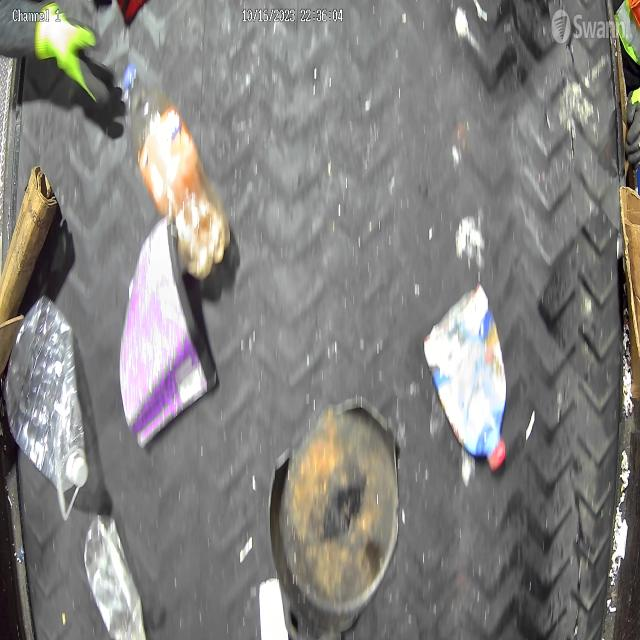non_white_jug: (424, 288, 508, 473)
plastic_bottle: (122, 63, 232, 280), (5, 295, 90, 493), (85, 514, 148, 638)
